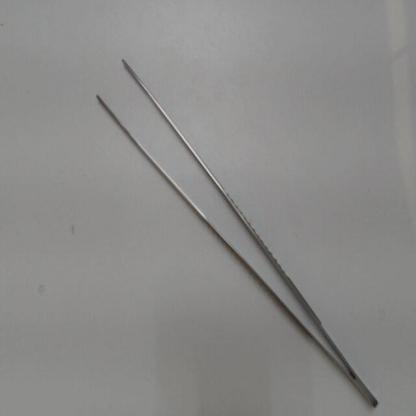DeBakey Dissector: (92, 43, 388, 414)
